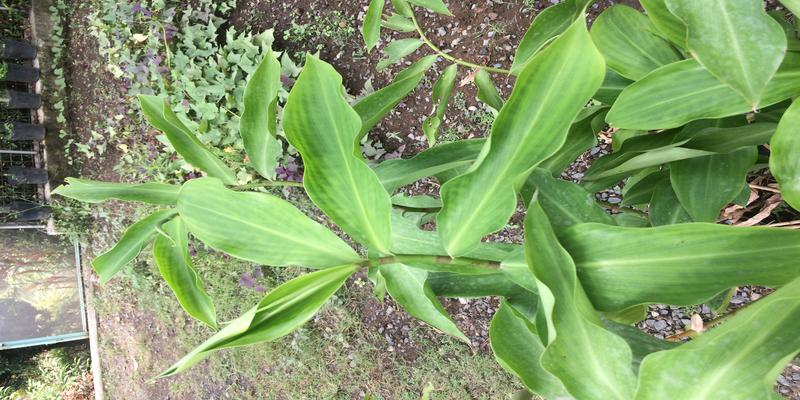Insulin: (299, 62, 792, 376)
